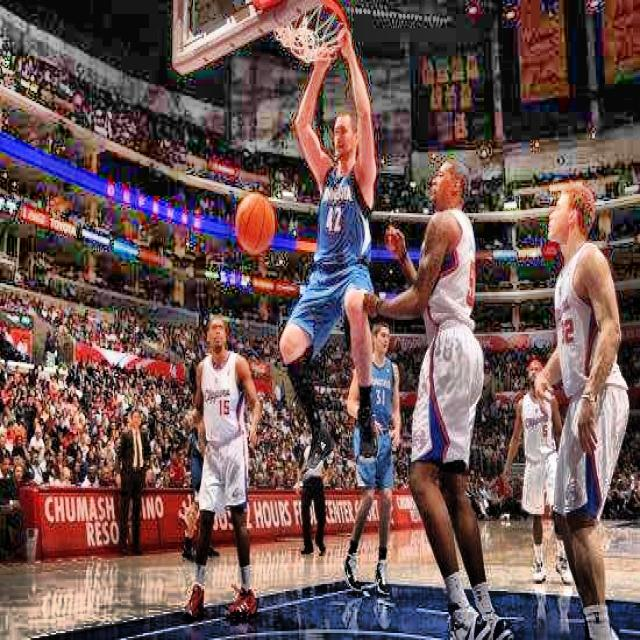board: (237, 192, 274, 255)
